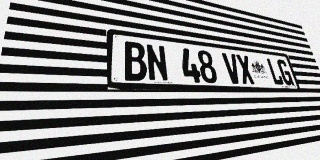4: (179, 48, 202, 83)
8: (196, 50, 218, 83)
B: (123, 41, 148, 81)
G: (276, 59, 294, 85)
L: (266, 58, 284, 85)
N: (145, 43, 169, 82)
V: (222, 53, 243, 84)
X: (235, 54, 256, 84)
